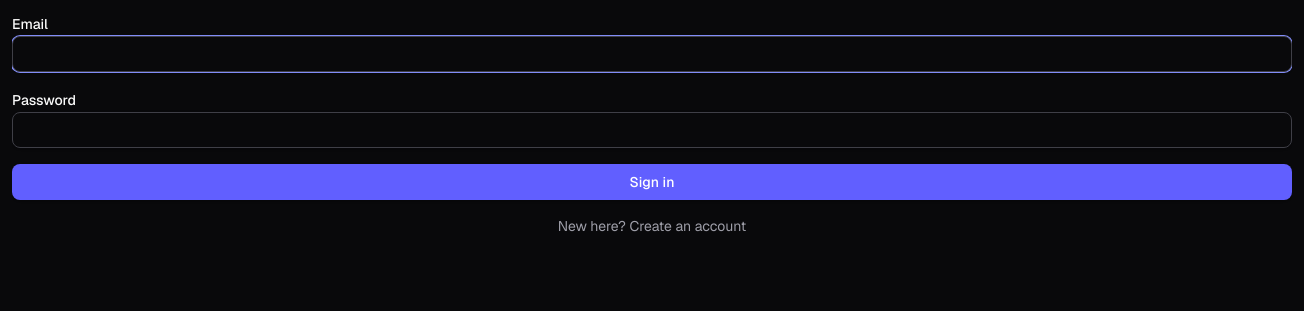
Test case: any other sign-in failure shows the generic alert
This screenshot has width=1304, height=311.
Type "ada@example.com" into the field labelled "Email".
click(652, 54); type("ada@example.com")  # box x1=12 y1=36 x2=1292 y2=72
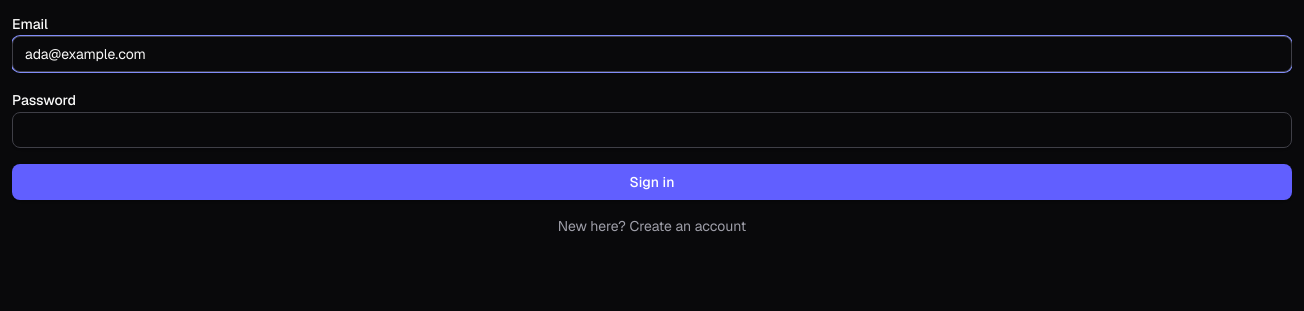
Type "password1" into the password field labelled "Password".
click(652, 130); type("password1")  # box x1=12 y1=112 x2=1292 y2=148
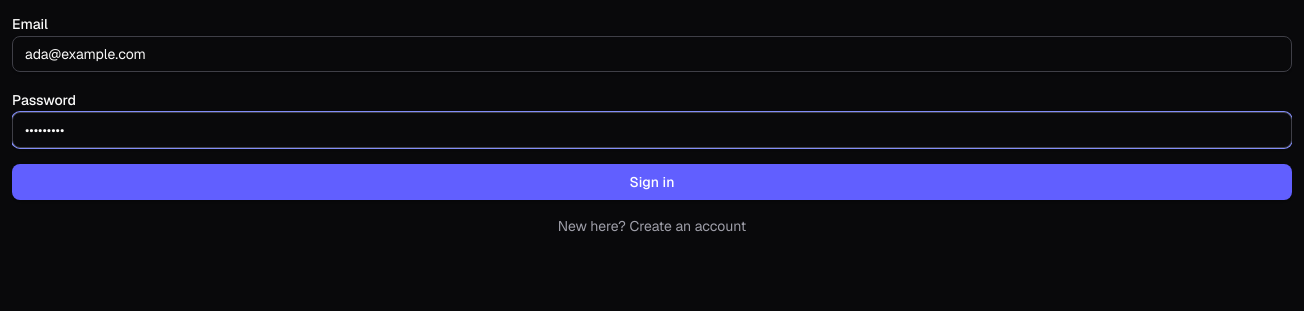
Click the button "Sign in".
click(652, 182)  # box x1=12 y1=164 x2=1292 y2=200
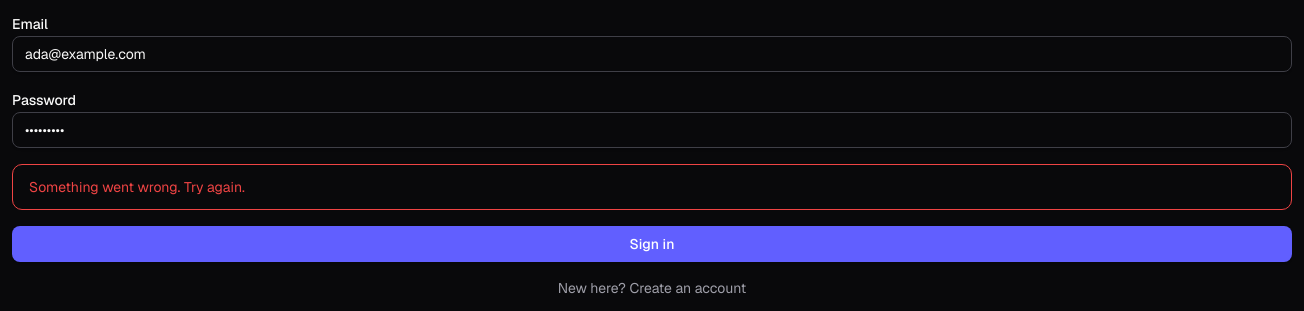
Result: the message reads "Something went wrong. Try again." at x1=29 y1=178 x2=245 y2=196
